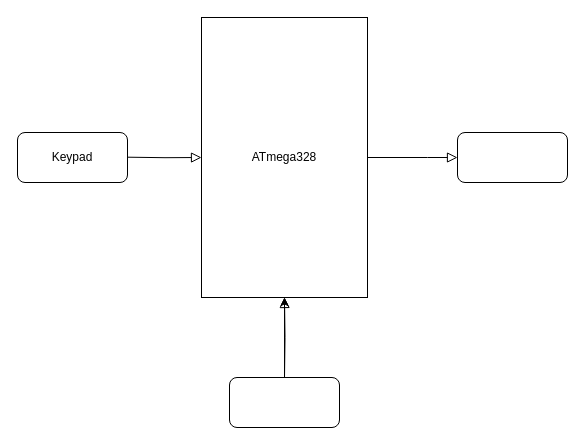
This 585x445 diagram has some shape labels left out. The shapes that lost their labels are listed below. From the top down, each one's centre as x and y in pixels, then its label:
(512,157): Display
(284,402): Power
